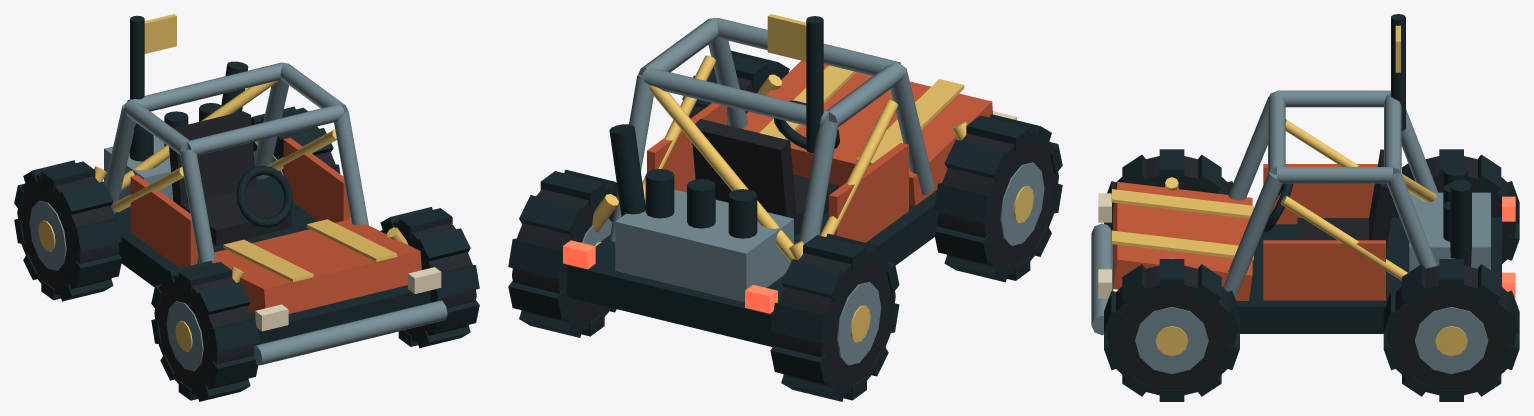
File: row-six-buggy.glb
The picture shows the model from 3 angles, left to right: view 1: azimuth 30°, elevation 25°; view 2: azimuth 150°, elevation 25°; view 3: azimuth 270°, elevation 25°; orthographic projection. The views are drawn at different scales.
Parts seen in each view (by area): view 1: row-six-buggy; view 2: row-six-buggy; view 3: row-six-buggy.
Boxes of the visible parts, left/top/right/bottom form: row-six-buggy: left=14, top=14, right=479, bottom=401; row-six-buggy: left=508, top=14, right=1062, bottom=401; row-six-buggy: left=1091, top=14, right=1519, bottom=401.
Bounding box in the file's own units: 2.28 × 2.31 × 3.14.
